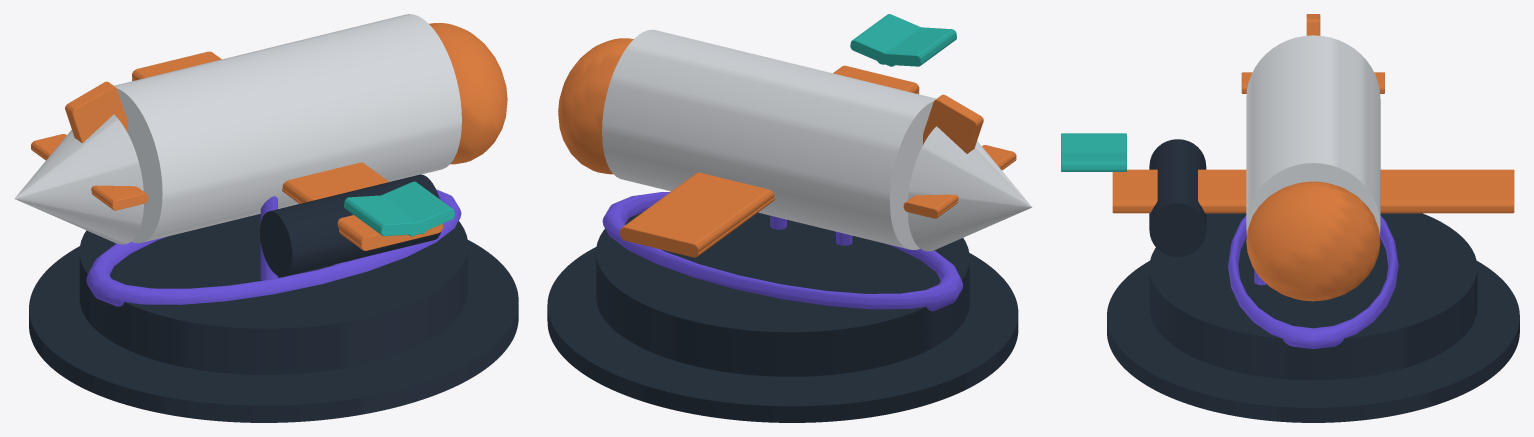
Rendered from 0341_航空航天图鉴_飞行者一号.glb.
3 renders of one model, left to right at view 1: azimuth 30°, elevation 25°; view 2: azimuth 150°, elevation 25°; view 3: azimuth 270°, elevation 25°, orthographic. The views are drawn at different scales.
Visible parts, largest first — view 1: card_0341; view 2: card_0341; view 3: card_0341.
Boxes of the visible parts, x1,y1,x2,y2 form: card_0341: (14, 14, 518, 422); card_0341: (547, 14, 1032, 422); card_0341: (1061, 14, 1519, 422).
Size of the model in its own units: 1.81 by 1 by 1.72.
